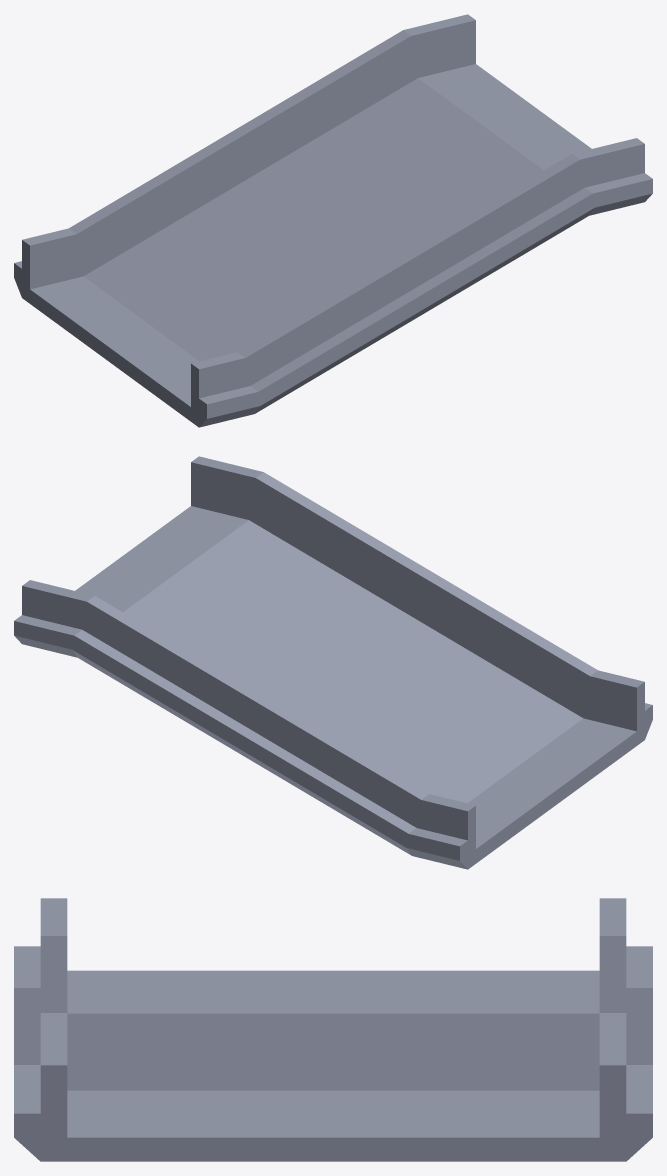
The model's file is ramp1.glb.
3 views of the same model, one above another, from view 1: azimuth 30°, elevation 25°; view 2: azimuth 150°, elevation 25°; view 3: azimuth 270°, elevation 25° (orthographic). The views are drawn at different scales.
Parts seen in each view (by area): view 1: massing_0; view 2: massing_0; view 3: massing_0.
Part boxes in pixels (left/top/right/bottom): massing_0: left=14, top=14, right=652, bottom=427; massing_0: left=14, top=456, right=652, bottom=869; massing_0: left=14, top=898, right=652, bottom=1161.
Size of what is drawn, in the model's own units: 6.1 by 2.29 by 4.58.
